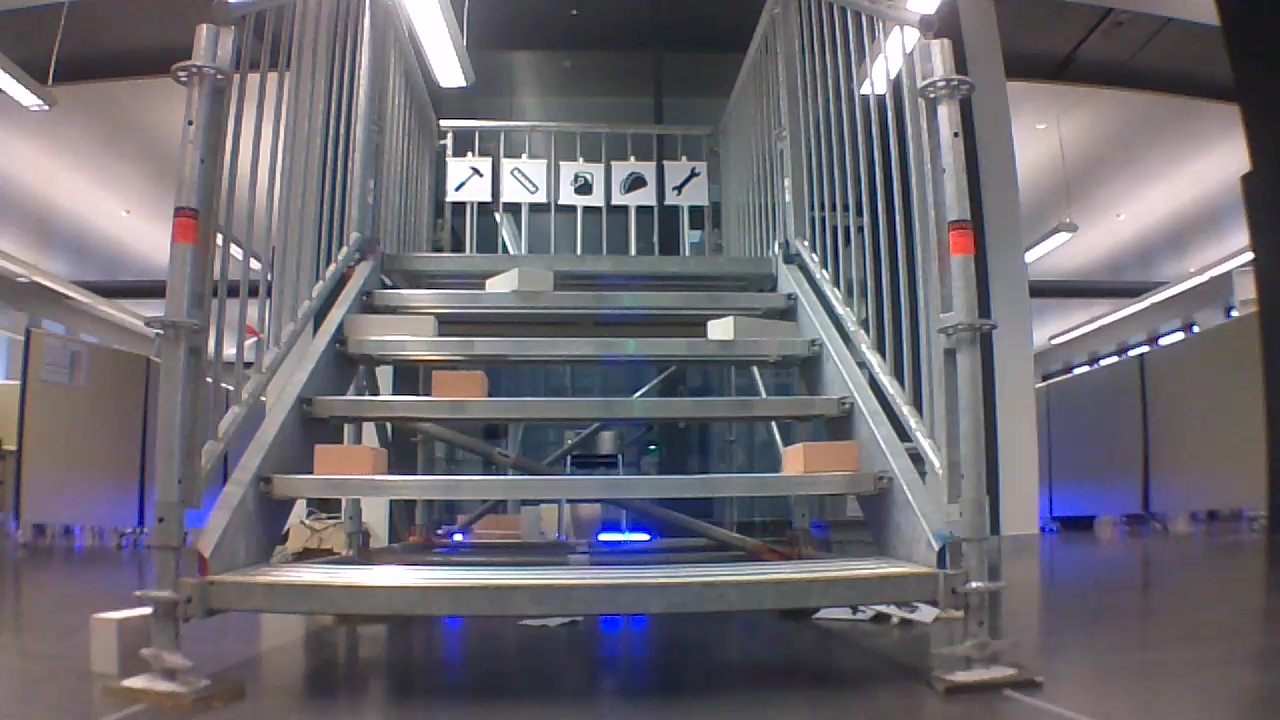brick: (88, 606, 155, 673), (307, 440, 393, 482), (782, 437, 865, 477), (706, 313, 805, 341), (478, 268, 554, 295), (342, 312, 435, 334), (425, 371, 492, 396)
bucket: (569, 170, 595, 199)
edge: (204, 577, 947, 604), (262, 469, 889, 494), (313, 394, 856, 420), (370, 284, 797, 310), (334, 338, 824, 354), (380, 253, 780, 271)
hammer: (451, 164, 484, 194)
ruler: (510, 166, 539, 194)
stairs: (163, 0, 995, 693)
steps: (196, 248, 956, 612)
taco: (624, 170, 649, 196)
wrench: (670, 166, 705, 195)
